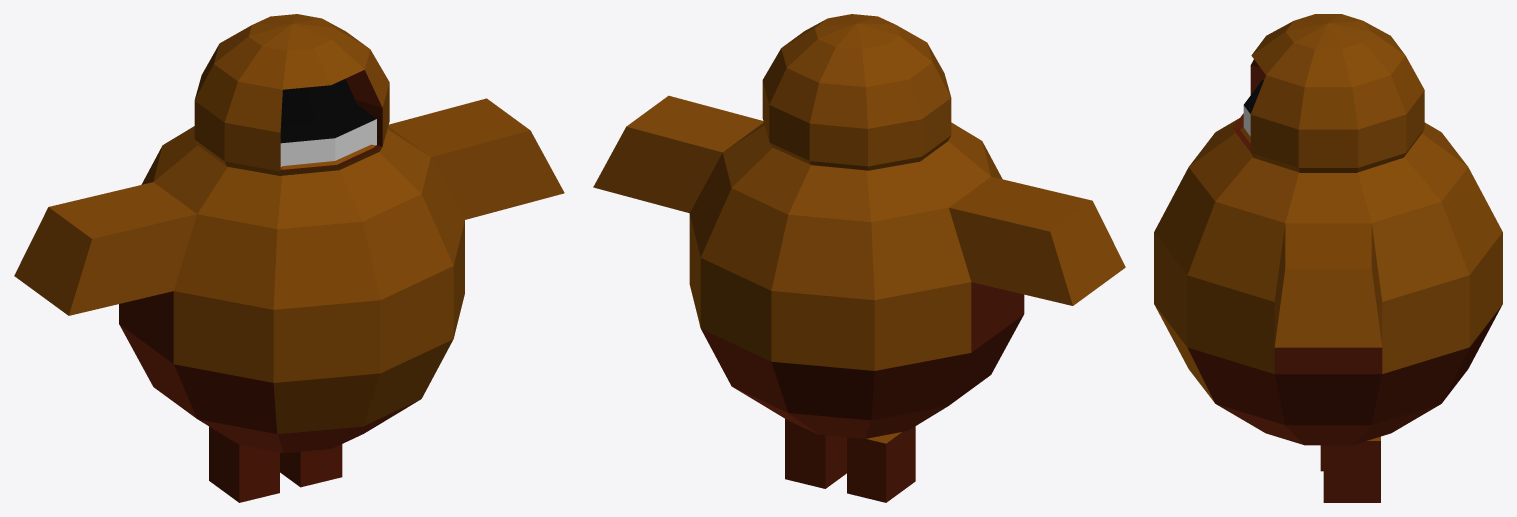
The model's file is CocoBlender.fbx.
3 views of the same model, side by side, from view 1: azimuth 30°, elevation 25°; view 2: azimuth 150°, elevation 25°; view 3: azimuth 270°, elevation 25° (orthographic). The views are drawn at different scales.
Parts seen in each view (by area): view 1: Sphere; view 2: Sphere; view 3: Sphere.
Part boxes in pixels (x1,y1,x2,y2): Sphere: (14,14,564,502); Sphere: (593,14,1125,502); Sphere: (1154,14,1502,502).
Bounding box in the file's own units: 3.16 × 1.95 × 2.82.
